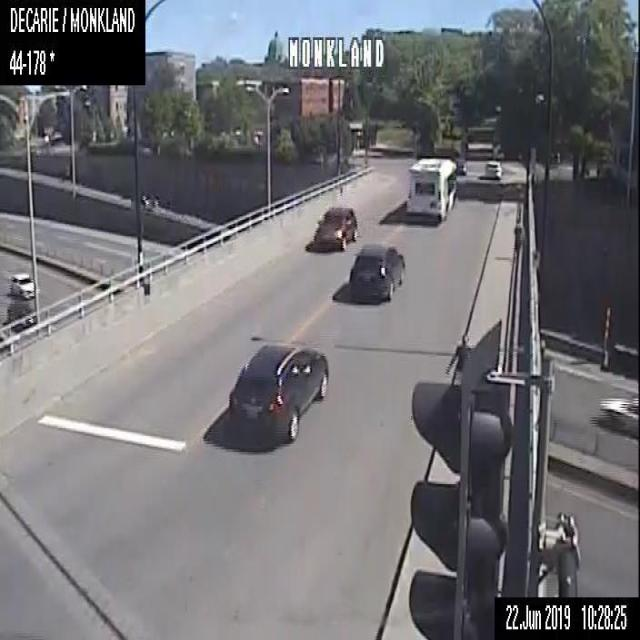bus: (406, 157, 456, 225)
vehicle: (227, 342, 329, 446), (348, 240, 406, 303), (312, 202, 359, 250), (602, 396, 639, 433), (7, 299, 36, 330), (6, 270, 34, 294), (484, 159, 502, 180), (453, 156, 467, 174)
